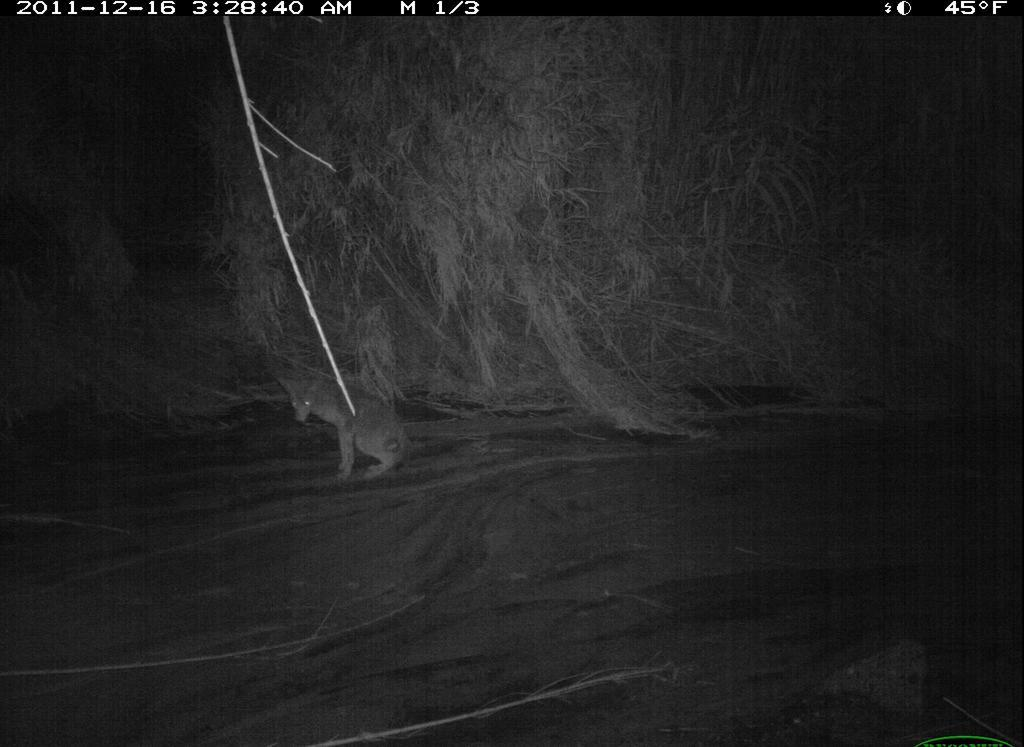coyote: (273, 363, 425, 491)
